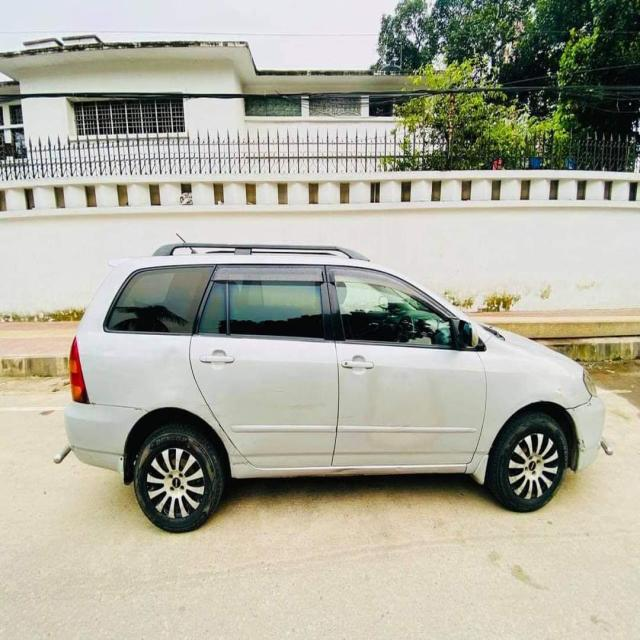white: (63, 249, 609, 512)
